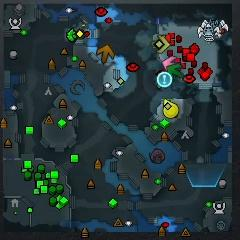Other: (157, 72, 173, 87)
p4: (163, 99, 178, 118)
x1: (163, 57, 177, 69)
x2: (151, 35, 169, 53)
x4: (167, 64, 183, 78)
x5: (96, 45, 114, 63)
